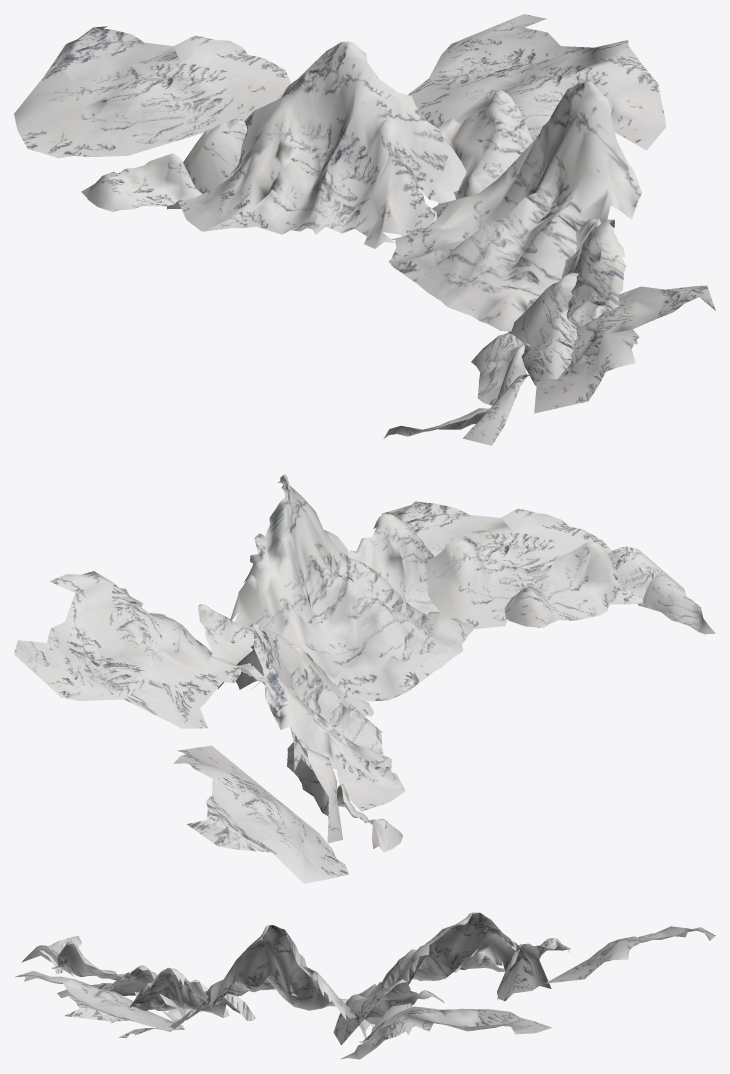
The model's file is SkyBoxMountain.FBX.
3 views of the same model, one above another, from view 1: azimuth 30°, elevation 25°; view 2: azimuth 150°, elevation 25°; view 3: azimuth 270°, elevation 25° (orthographic). The views are drawn at different scales.
Visible parts, largest first — view 1: SkyboxMountains; view 2: SkyboxMountains; view 3: SkyboxMountains.
Part boxes in pixels (x1,y1,x2,y2): SkyboxMountains: (14, 14, 715, 445); SkyboxMountains: (14, 474, 715, 883); SkyboxMountains: (14, 912, 715, 1059).
Size of the model in its own units: 498298 by 198631 by 841373.
